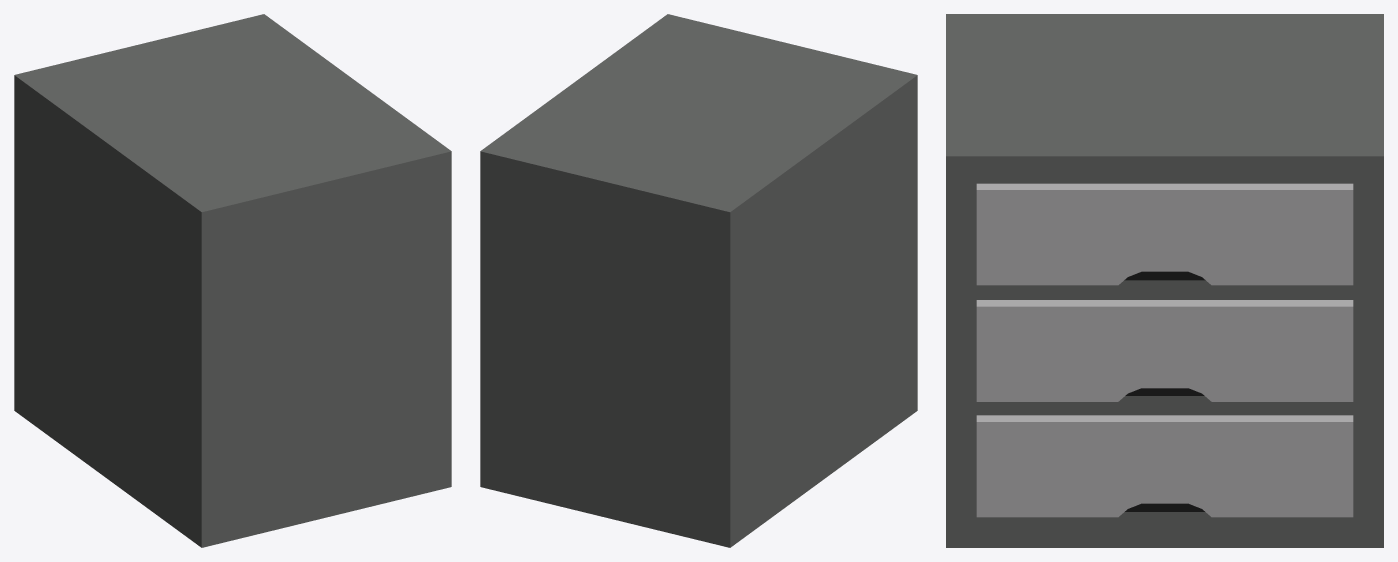
File: SM_Cupboard_09.glb
The picture shows the model from 3 angles, left to right: view 1: azimuth 30°, elevation 25°; view 2: azimuth 150°, elevation 25°; view 3: azimuth 270°, elevation 25°; orthographic projection. The views are drawn at different scales.
Visible parts, largest first — view 1: SM_Cupboard_09; view 2: SM_Cupboard_09; view 3: SM_Cupboard_09.
Boxes of the visible parts, x1,y1,x2,y2 form: SM_Cupboard_09: (14,14,451,547); SM_Cupboard_09: (480,14,917,547); SM_Cupboard_09: (946,14,1383,547).
Size of the model in its own units: 0.2806 by 0.344 by 0.3484.
1 material, 1 textured.
